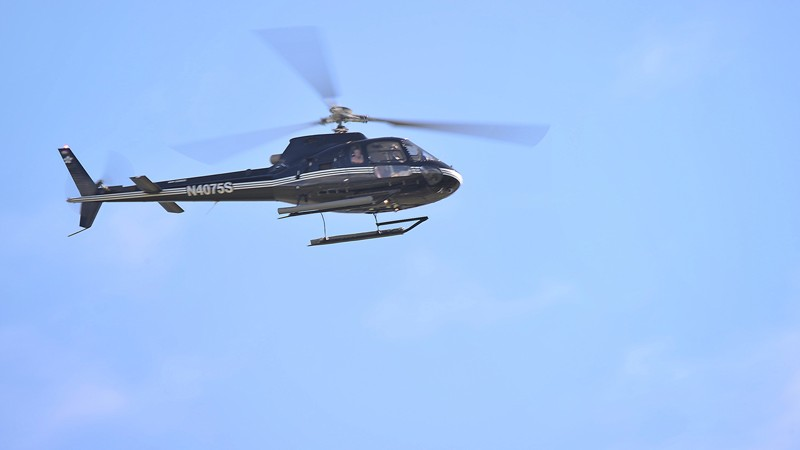Helicopter: (53, 101, 524, 264)
